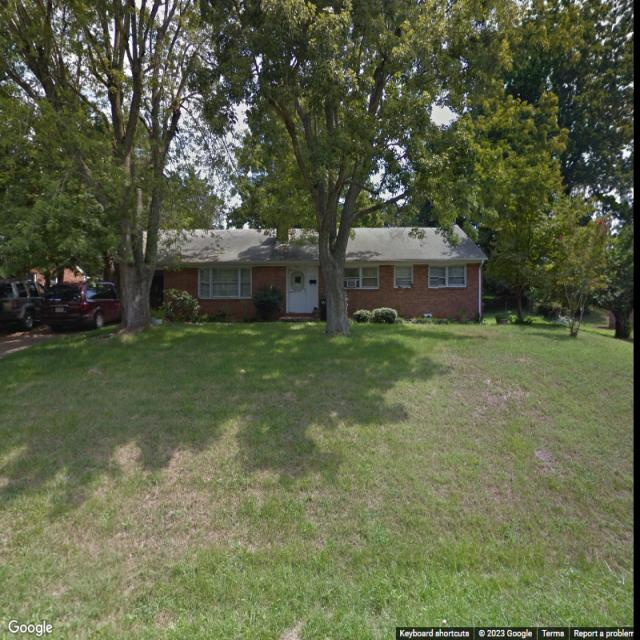House: (111, 220, 488, 326)
